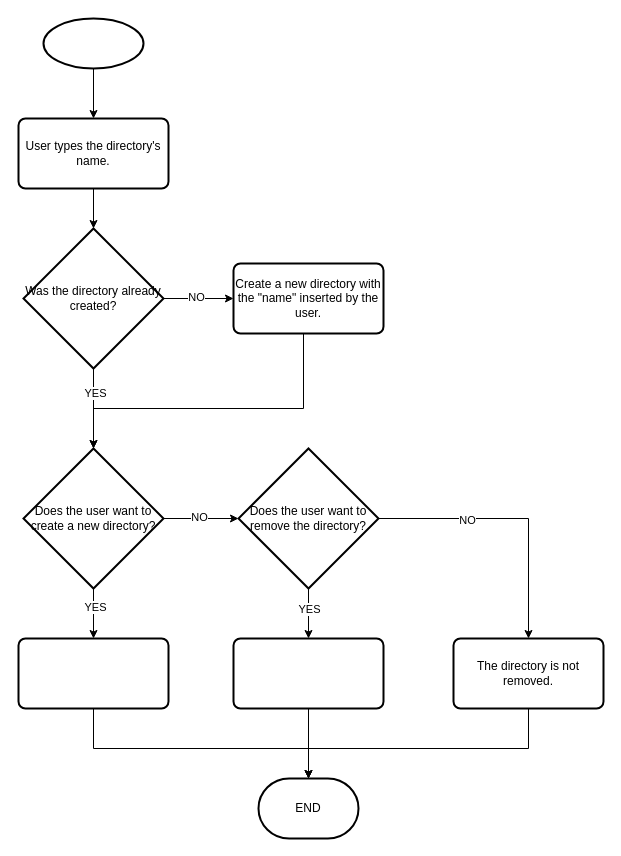
This 621x856 diagram has some shape labels left out. The shapes that lost their labels are listed below. From the top down, each one's box as (x1, y1, x2, y2) in pixels, then its label:
(42, 17, 144, 69): START
(17, 637, 169, 709): The user is redirected to the "file creator program".
(232, 637, 384, 709): The directory is removed.
